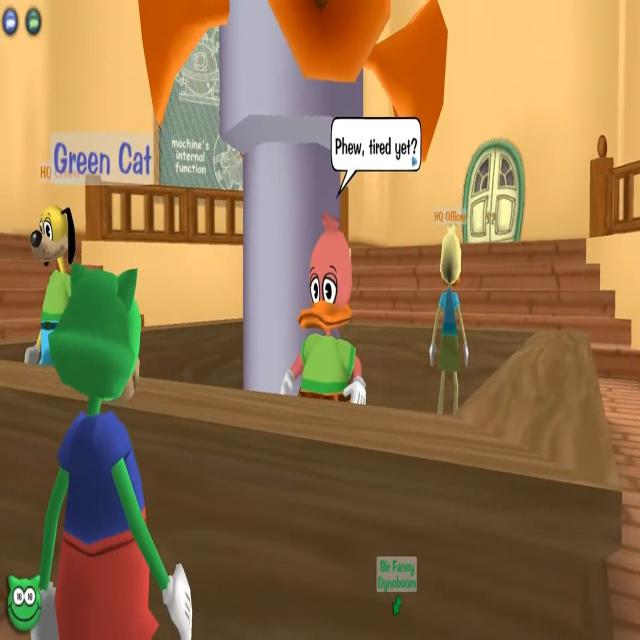npc: (281, 114, 421, 423), (20, 161, 83, 368), (425, 202, 478, 418)
